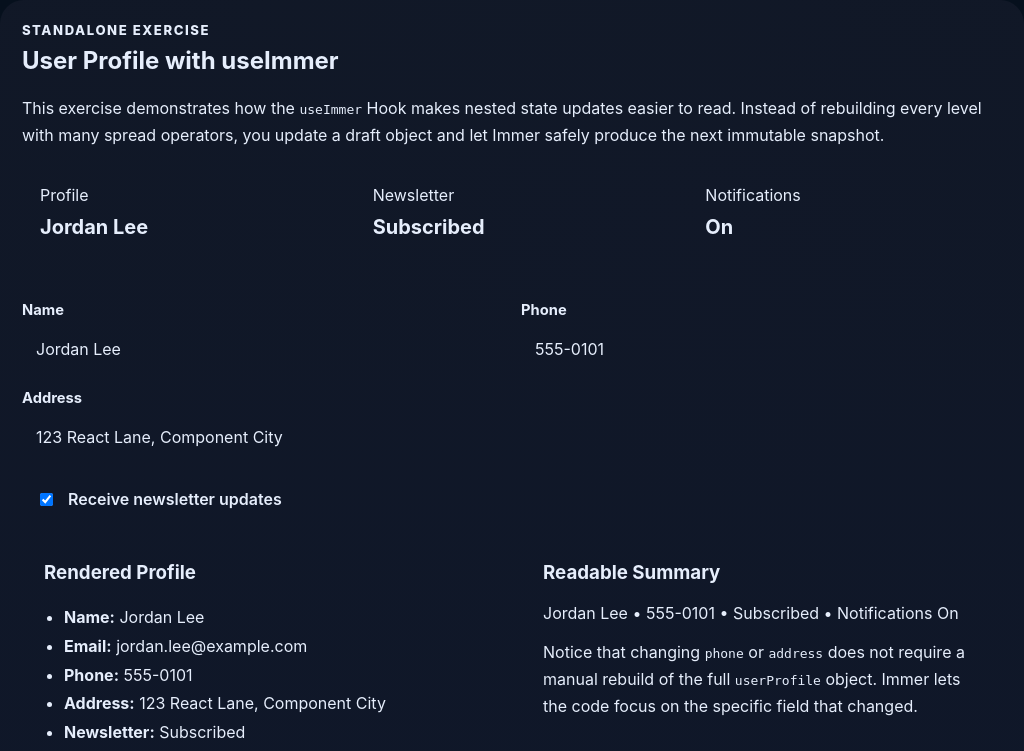
Test: UserProfileWithImmer standalone exercise › normal: changing the inputs updates the nested contact details in real time
Replace the text in the field with test id "name-input" with "Avery Johnson" at point(262, 349), box [22,327,503,371]
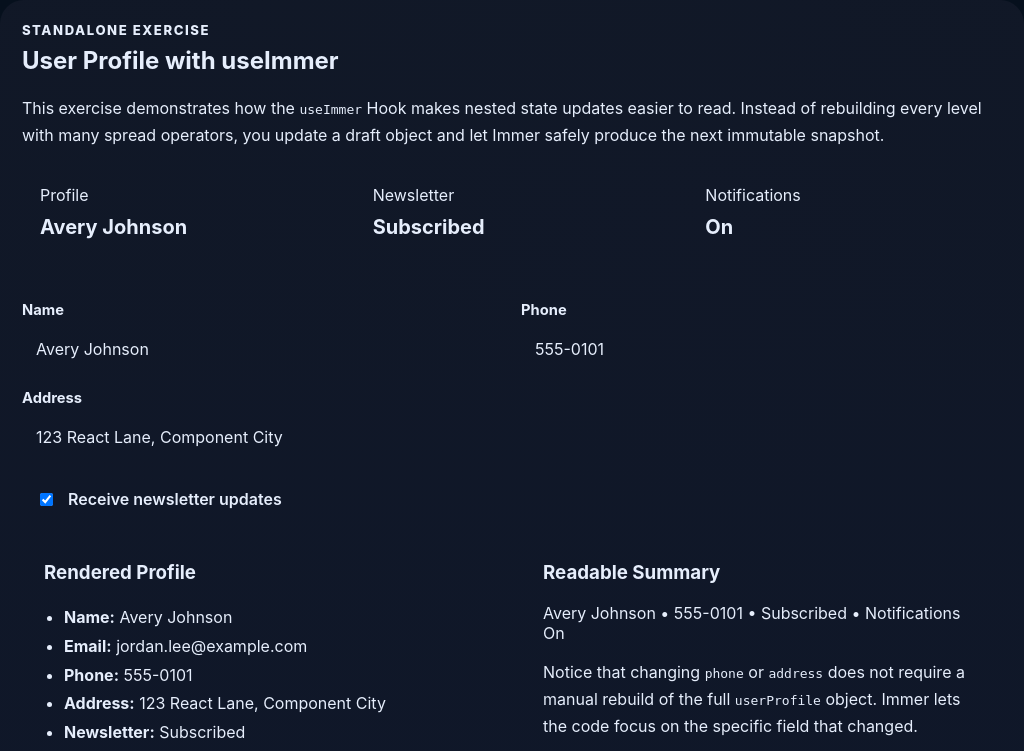
Replace the text in the field with test id "phone-input" with "555-9999" at point(762, 349), box [521,327,1002,371]
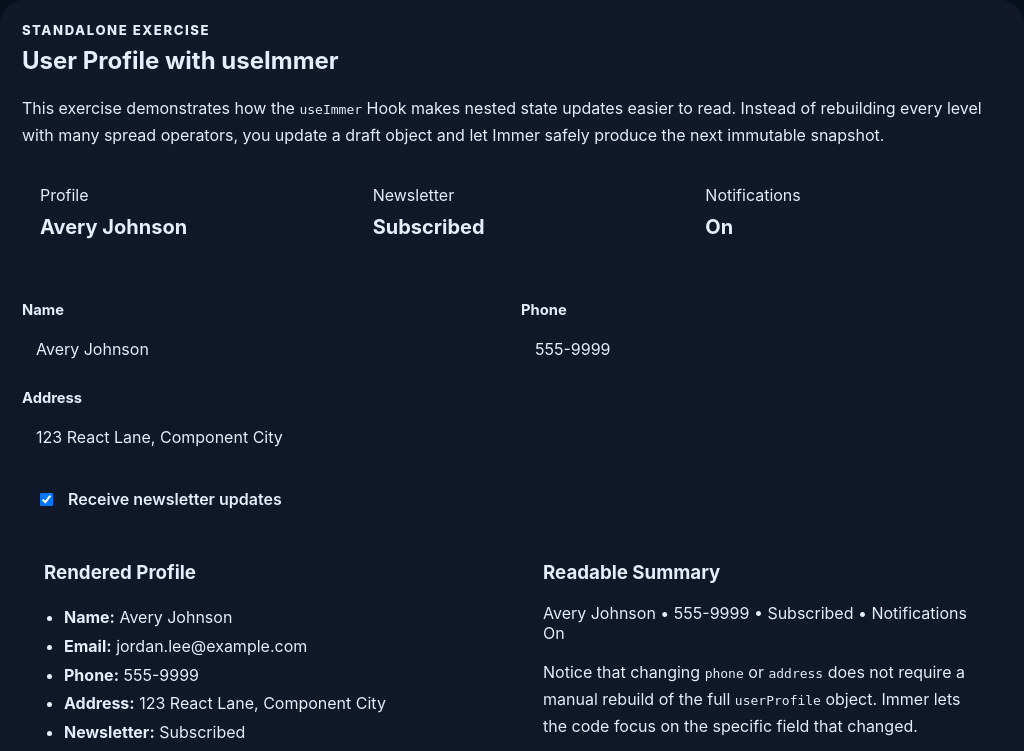
Replace the text in the field with test id "address-input" with "900 Draft Avenue, Proxy Point" at point(512, 437), box [22,415,1002,459]
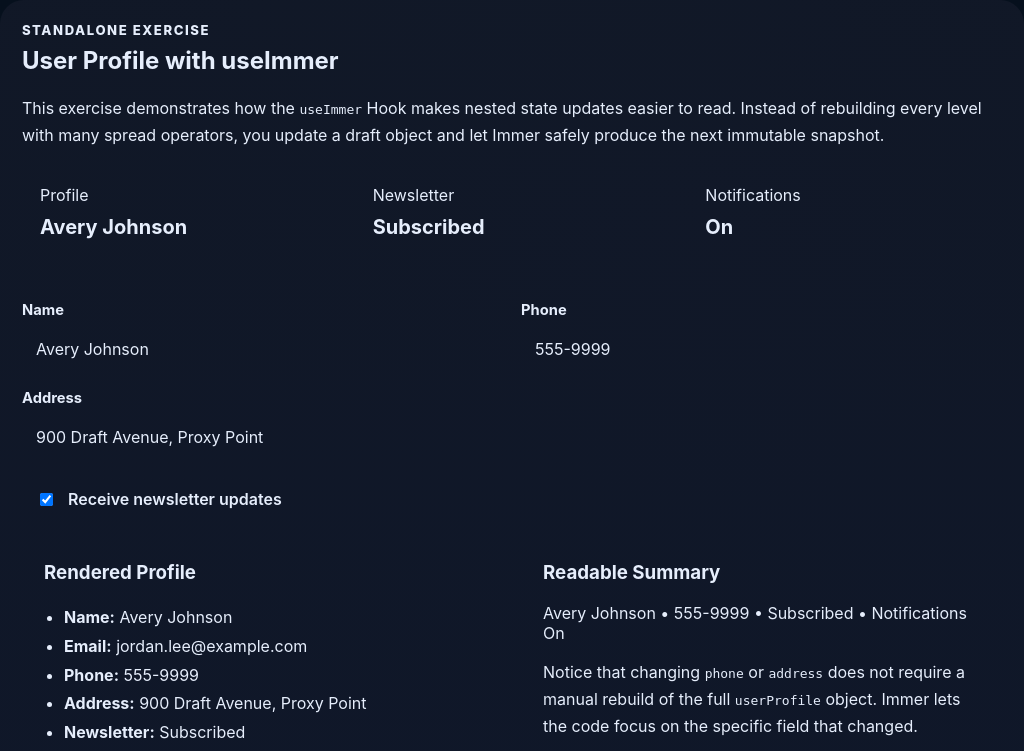
Expected: the list item with test id "profile-name" shows "Avery Johnson", [120,607,232,627]
Expected: the list item with test id "profile-phone" shows "555-9999", [124,665,199,685]
Expected: the list item with test id "profile-address" shows "900 Draft Avenue, Proxy Point", [139,693,366,713]
